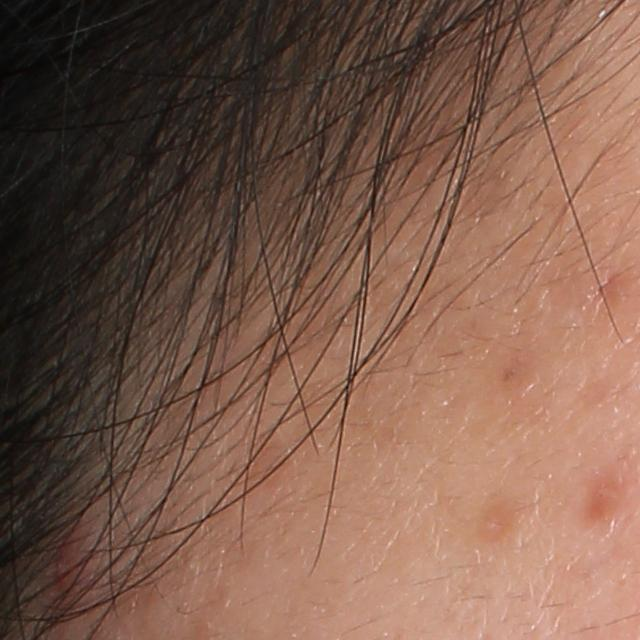papule: (52, 523, 96, 606)
